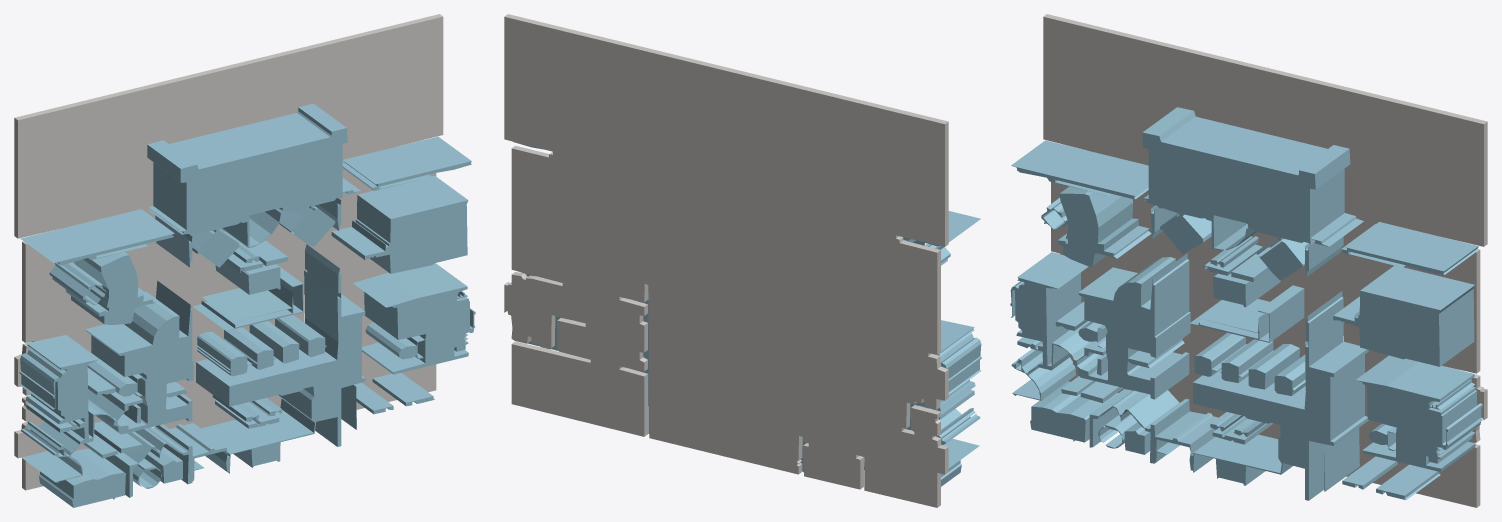
3 views of the same model, side by side, from view 1: azimuth 30°, elevation 25°; view 2: azimuth 150°, elevation 25°; view 3: azimuth 330°, elevation 25° (orthographic). The views are drawn at different scales.
Parts seen in each view (by area): view 1: world; view 2: world; view 3: world.
Part boxes in pixels (<box>): world: <box>14,14,475,507</box>; world: <box>504,14,981,507</box>; world: <box>1010,14,1487,507</box>.
Size of the model in its own units: 10.23 by 8.57 by 1.54.
